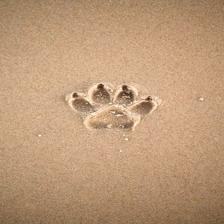dog: (65, 82, 162, 134)
